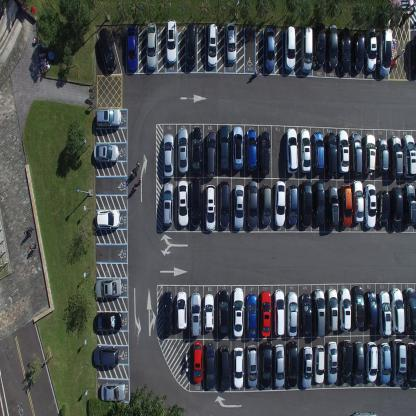car: (97, 25, 116, 74), (391, 338, 406, 385), (390, 287, 405, 334), (312, 288, 326, 337), (388, 134, 403, 179), (378, 28, 392, 76), (339, 338, 353, 384), (402, 133, 416, 179), (403, 287, 416, 336), (338, 286, 352, 331), (378, 291, 392, 336), (338, 183, 352, 228), (232, 286, 244, 338), (93, 344, 120, 367), (402, 182, 416, 226), (285, 126, 298, 173), (362, 132, 376, 175), (273, 180, 286, 226), (95, 107, 122, 129), (190, 177, 202, 226), (378, 342, 392, 384), (94, 277, 122, 298), (218, 345, 231, 390), (326, 184, 339, 229), (299, 127, 312, 172), (177, 126, 189, 174), (218, 180, 230, 228), (217, 288, 229, 336), (246, 180, 258, 228), (284, 24, 296, 72), (260, 340, 272, 388), (273, 288, 285, 336), (301, 25, 313, 73), (313, 178, 325, 226), (300, 180, 312, 228), (146, 22, 158, 70), (126, 25, 138, 73), (300, 345, 313, 389), (365, 339, 378, 383), (93, 142, 119, 164), (100, 380, 126, 402), (245, 292, 257, 339), (338, 26, 350, 73), (364, 182, 376, 229), (95, 310, 123, 330), (190, 292, 202, 338), (161, 290, 173, 336), (206, 22, 218, 68), (162, 132, 174, 178), (177, 180, 189, 226), (286, 341, 298, 387), (286, 290, 298, 336), (365, 28, 377, 74), (337, 128, 349, 174), (185, 22, 197, 68), (166, 18, 178, 64), (191, 125, 202, 175), (258, 131, 270, 176), (263, 26, 275, 71), (273, 343, 285, 388), (300, 292, 312, 337), (326, 23, 338, 68), (350, 132, 362, 177), (325, 131, 337, 176), (218, 124, 229, 173), (205, 183, 216, 232), (376, 190, 390, 228), (225, 20, 237, 64), (204, 342, 215, 390), (326, 287, 338, 331), (352, 30, 364, 74), (390, 186, 402, 230), (352, 180, 364, 224), (312, 130, 324, 174), (365, 289, 378, 329), (205, 130, 216, 177), (233, 183, 244, 230), (260, 291, 271, 338), (260, 183, 272, 226), (246, 344, 258, 387), (326, 340, 338, 383), (352, 284, 364, 327), (245, 130, 257, 172), (95, 209, 120, 229), (162, 181, 173, 226), (314, 22, 325, 67), (313, 343, 325, 384), (232, 126, 243, 170), (233, 346, 244, 390), (406, 340, 416, 388), (353, 340, 364, 383), (287, 183, 298, 226), (192, 340, 203, 382), (176, 290, 187, 331), (203, 292, 214, 332), (376, 137, 388, 173), (411, 32, 416, 74)
